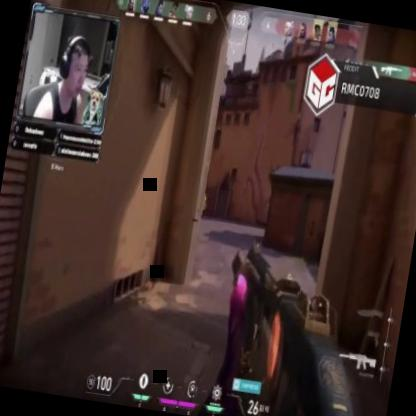enemy: (198, 190, 208, 218)
